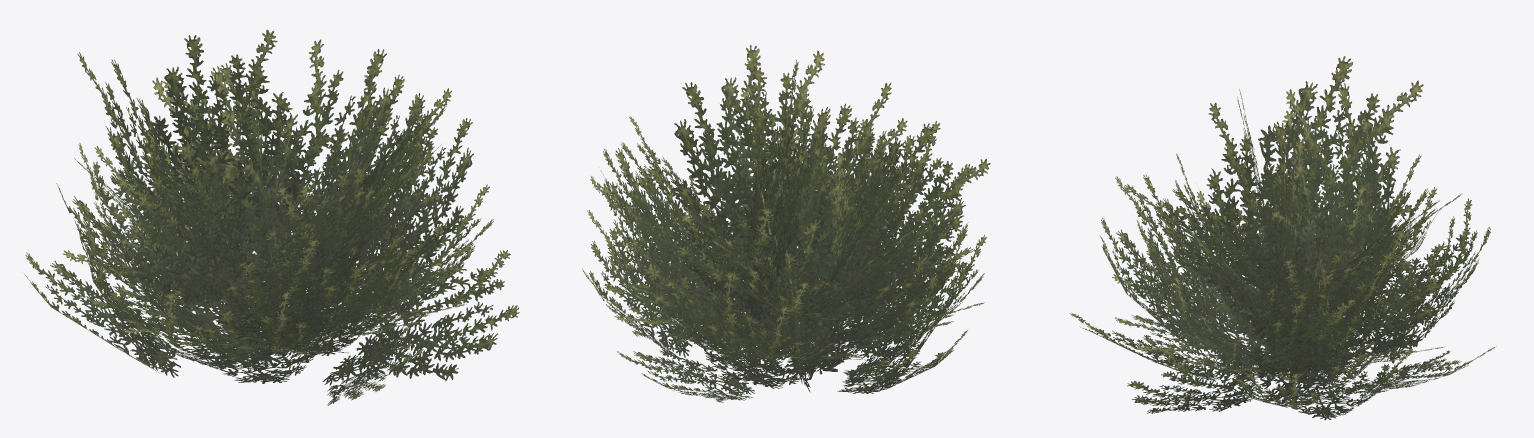
The model's file is 小灌木.glb.
3 renders of one model, left to right at view 1: azimuth 30°, elevation 25°; view 2: azimuth 150°, elevation 25°; view 3: azimuth 270°, elevation 25°, orthographic. The views are drawn at different scales.
Parts seen in each view (by area): view 1: 小灌木; view 2: 小灌木; view 3: 小灌木.
Boxes of the visible parts, bbox=[...] form: 小灌木: bbox=[24, 30, 519, 405]; 小灌木: bbox=[582, 45, 990, 402]; 小灌木: bbox=[1070, 56, 1496, 420].
Size of the model in its own units: 3.13 by 2.5 by 3.09.
Materials: 1 (1 with a texture image).
